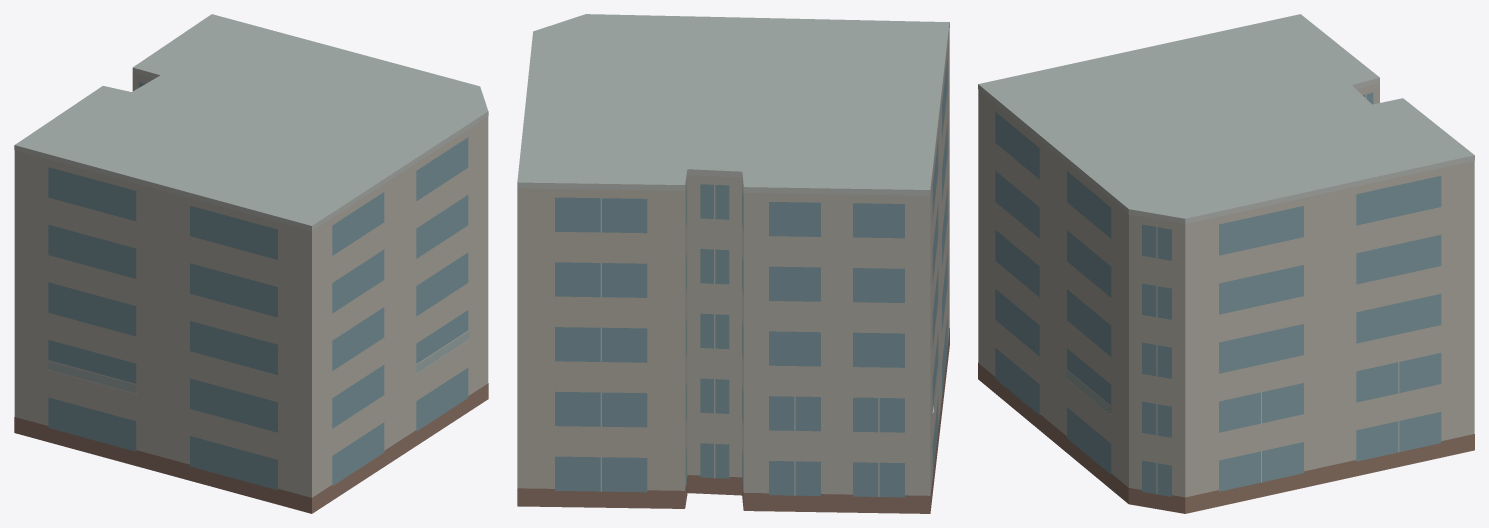
Rendered from survey-upis-32827566.glb.
3 views of the same model, side by side, from view 1: azimuth 30°, elevation 25°; view 2: azimuth 150°, elevation 25°; view 3: azimuth 270°, elevation 25° (orthographic). The views are drawn at different scales.
Visible parts, largest first — view 1: survey-upis-32827566.tmp; view 2: survey-upis-32827566.tmp; view 3: survey-upis-32827566.tmp.
Boxes of the visible parts, box(x1,y1,x2,y2) form: survey-upis-32827566.tmp: box(14, 14, 488, 513); survey-upis-32827566.tmp: box(517, 14, 949, 513); survey-upis-32827566.tmp: box(978, 14, 1474, 513).
Bounding box in the file's own units: 20.17 × 13.55 × 20.68.
